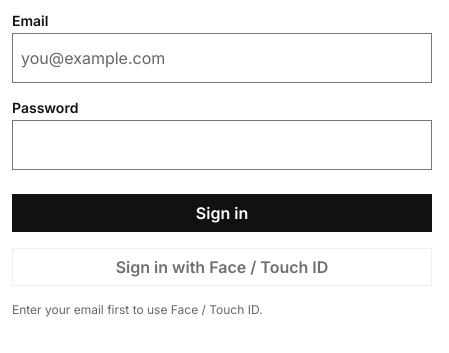
Scenario: LoginForm › maps a passkey 429 to the 15-minute rate-limit message
In the field with placeholder "you@example.com": (222, 58) [12,33,432,83], type "a@b.com"
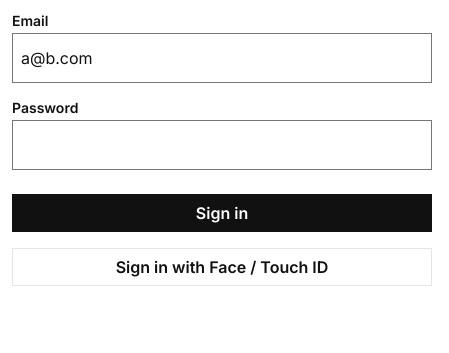
Click the button "Sign in with Face / Touch ID": (222, 267) [12,248,432,286]
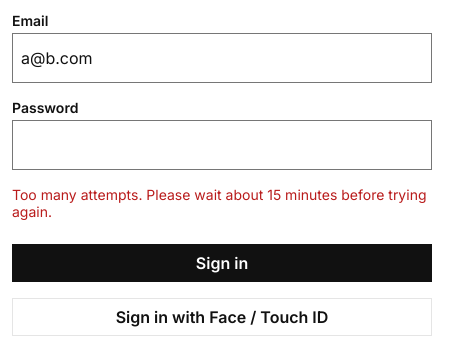
Expected: the message "Too many attempts. Please wait about 15 minutes before trying again." is shown, [12,186,432,220]
Expected: the message shows "wait about 15 minutes", [12,186,426,220]
